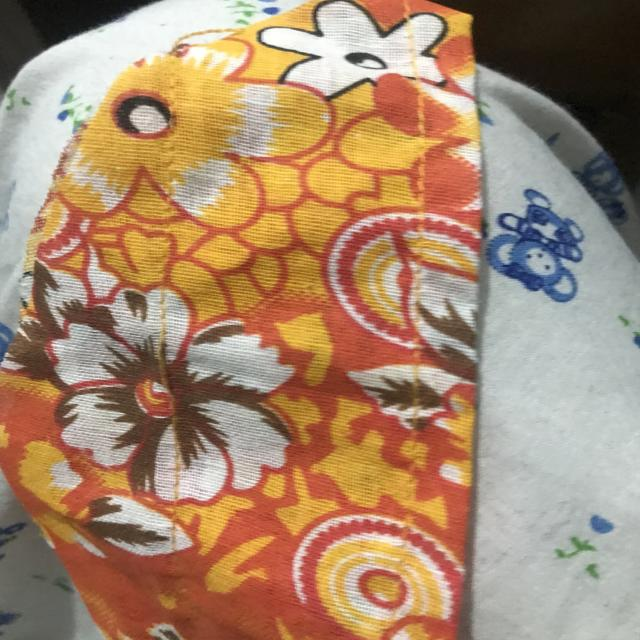skip: (135, 312, 190, 412)
